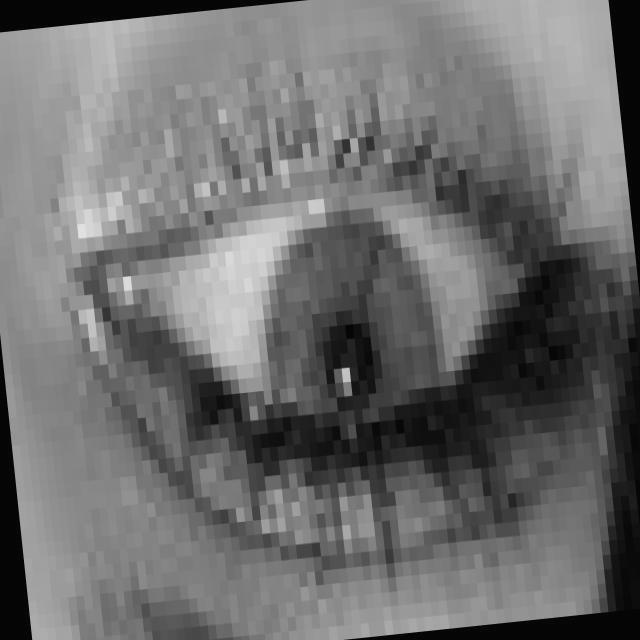Normal: (31, 133, 611, 507)
